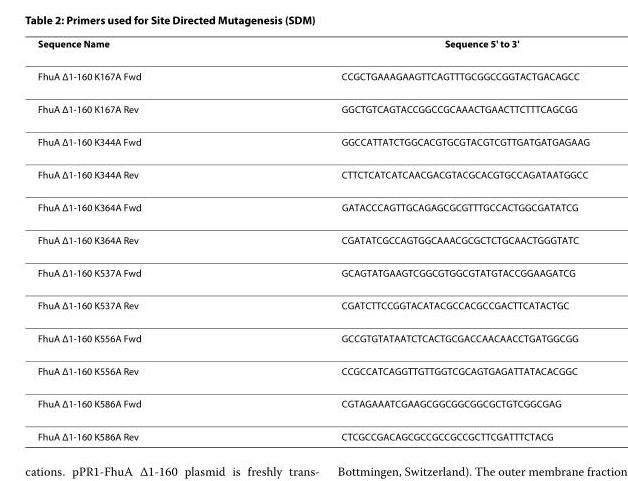table: (36, 36, 589, 441)
table column: (240, 36, 589, 441), (36, 36, 240, 441)
table column header: (36, 36, 589, 59)
table row: (36, 59, 589, 92), (36, 124, 589, 157), (36, 157, 589, 190), (36, 190, 589, 223), (36, 255, 589, 288), (36, 288, 589, 321), (36, 321, 589, 354), (36, 386, 589, 419), (36, 92, 589, 124), (36, 223, 589, 255), (36, 354, 589, 386), (36, 36, 589, 59), (36, 419, 589, 441)
